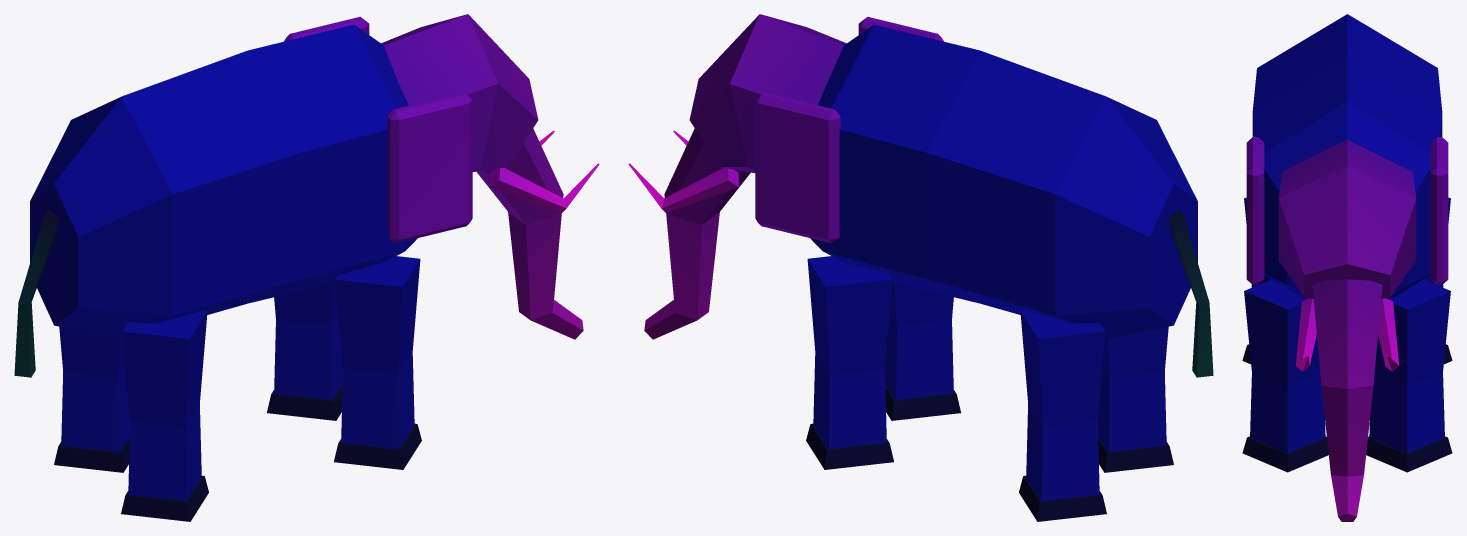
The model's file is ns-elephant-a.glb.
The picture shows the model from 3 angles, left to right: view 1: azimuth 30°, elevation 25°; view 2: azimuth 150°, elevation 25°; view 3: azimuth 270°, elevation 25°; orthographic projection. The views are drawn at different scales.
Parts seen in each view (by area): view 1: Sculpted silhouette, Tapered form.002, Tapered form.006, Tapered form.008, Cube, Tapered form.009, Tapered form.004, Tapered form, Tapered form.012, Tapered form.003, Tapered form.007, Tapered form.010 (+3 smaller); view 2: Sculpted silhouette, Tapered form, Tapered form.004, Tapered form.008, Cube.001, Tapered form.009, Tapered form.006, Tapered form.002, Tapered form.012, Tapered form.001, Tapered form.005, Tapered form.011 (+3 smaller); view 3: Sculpted silhouette, Tapered form.008, Tapered form.009, Tapered form, Tapered form.002, Cube, Cube.001, Tapered form.001, Tapered form.003, Tapered form.010, Tapered form.011.
Boxes of the visible parts, x1,y1,x2,y2 form: Sculpted silhouette: (30,24,417,339); Tapered form.002: (335,256,420,449); Tapered form.006: (122,310,207,500); Tapered form.008: (381,14,538,171); Cube: (387,92,472,243); Tapered form.009: (476,128,583,339); Tapered form.004: (59,326,130,451); Tapered form: (274,282,342,399); Tapered form.012: (14,210,59,377); Tapered form.003: (334,423,421,469); Tapered form.007: (121,475,208,521); Tapered form.010: (489,163,599,212); Sculpted silhouette: (810,24,1197,339); Tapered form: (807,256,892,449); Tapered form.004: (1020,310,1105,500); Tapered form.008: (689,14,846,173); Cube.001: (755,92,840,243); Tapered form.009: (644,128,750,339); Tapered form.006: (1097,326,1168,451); Tapered form.002: (885,282,953,399); Tapered form.012: (1168,210,1213,377); Tapered form.001: (806,423,893,469); Tapered form.005: (1019,475,1106,521); Tapered form.011: (628,163,738,212); Sculpted silhouette: (1252,14,1442,299); Tapered form.008: (1278,140,1416,298); Tapered form.009: (1312,279,1382,521); Tapered form: (1369,279,1450,453); Tapered form.002: (1244,279,1325,453); Cube: (1246,137,1264,284); Cube.001: (1430,137,1448,284); Tapered form.001: (1366,436,1452,472); Tapered form.003: (1242,436,1328,472); Tapered form.010: (1295,298,1316,371); Tapered form.011: (1378,298,1399,371).
Bounding box in the file's own units: 1.17 × 0.79 × 0.4224.
